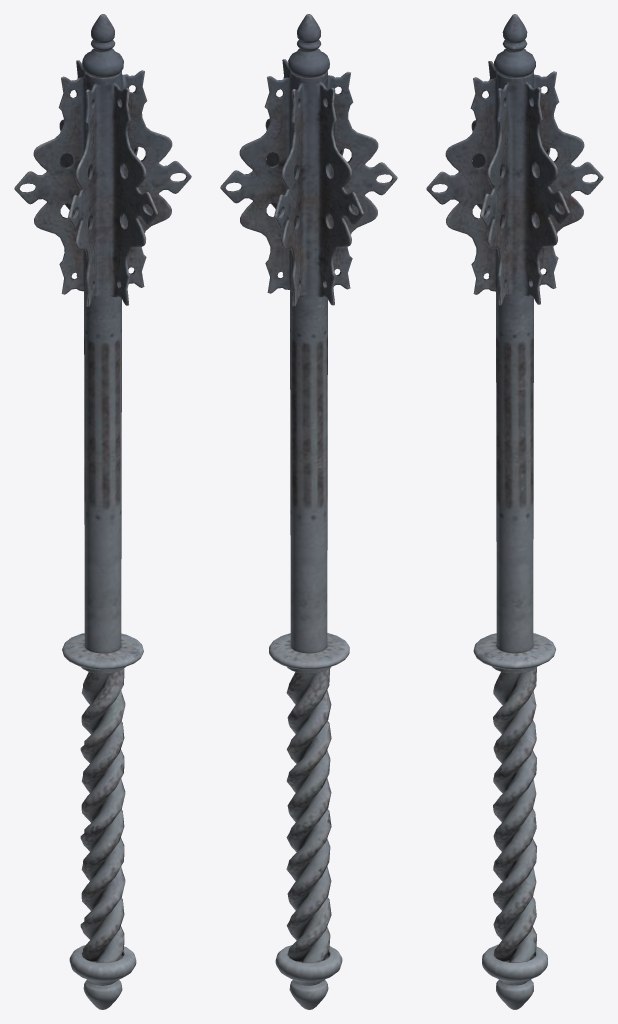
File: ph_mace_bishop.glb
3 views of the same model, side by side, from view 1: azimuth 30°, elevation 25°; view 2: azimuth 150°, elevation 25°; view 3: azimuth 270°, elevation 25° (orthographic).
Parts seen in each view (by area): view 1: ph_mace_bishop; view 2: ph_mace_bishop; view 3: ph_mace_bishop.
Boxes of the visible parts, bbox=[...] form: ph_mace_bishop: bbox=[14, 14, 191, 1009]; ph_mace_bishop: bbox=[220, 14, 397, 1009]; ph_mace_bishop: bbox=[426, 14, 603, 1009].
Bounding box in the file's own units: 0.1233 × 0.819 × 0.1322.
1 material, 1 textured.
